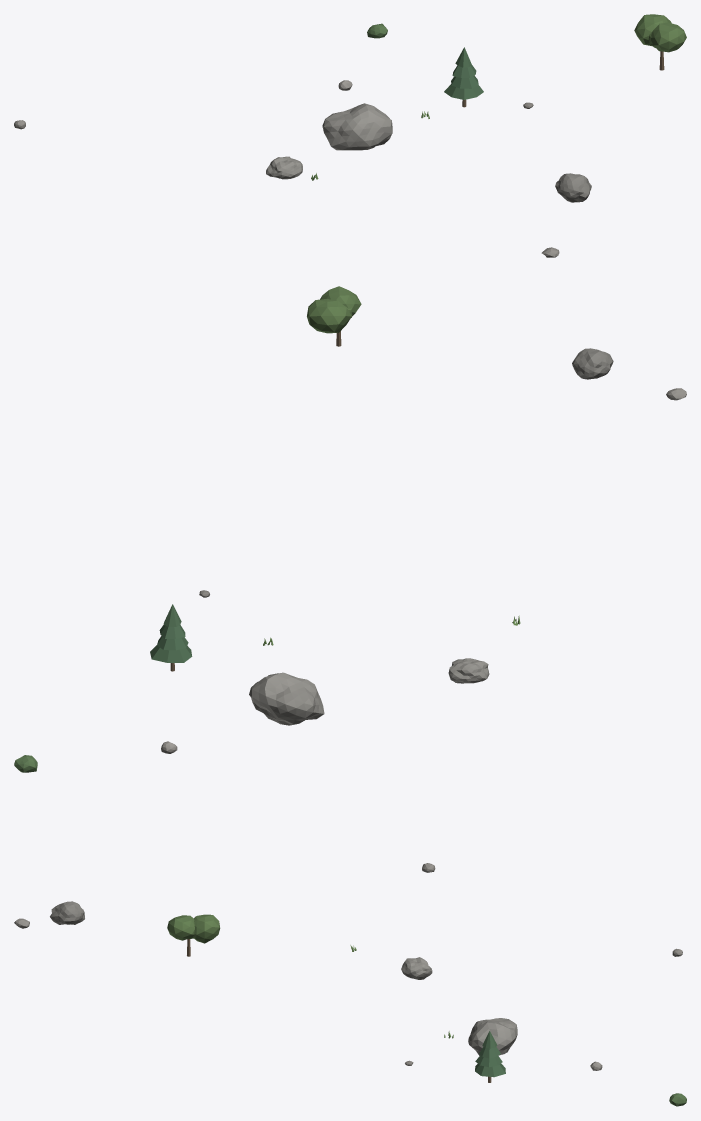
File: arch_land_scatter_c17_17.glb
The picture shows the model from 3 angles, top to bottom: view 1: azimuth 30°, elevation 25°; view 2: azimuth 150°, elevation 25°; view 3: azimuth 270°, elevation 25°; orthographic projection. The views are drawn at different scales.
Parts seen in each view (by area): view 1: arch_land_scatter_c17_17; view 2: arch_land_scatter_c17_17; view 3: arch_land_scatter_c17_17.
Part boxes in pixels (x1,y1,x2,y2): arch_land_scatter_c17_17: (14, 14, 686, 257); arch_land_scatter_c17_17: (14, 286, 686, 872); arch_land_scatter_c17_17: (14, 901, 686, 1106).
Bounding box in the file's own units: 47.21 × 26 × 82.23.
